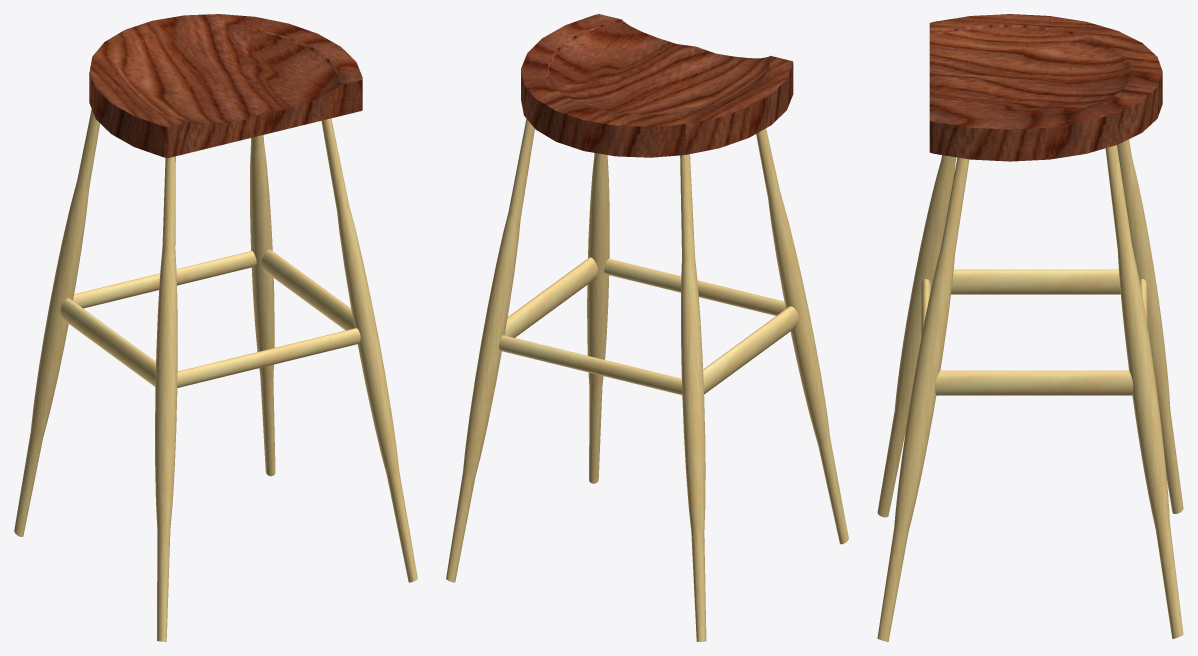
File: LabStoolWooden01.fbx
The picture shows the model from 3 angles, left to right: view 1: azimuth 30°, elevation 25°; view 2: azimuth 150°, elevation 25°; view 3: azimuth 270°, elevation 25°; orthographic projection. The views are drawn at different scales.
Parts seen in each view (by area): view 1: default; view 2: default; view 3: default.
Boxes of the visible parts, x1,y1,x2,y2 form: default: (14, 14, 417, 641); default: (446, 14, 848, 641); default: (877, 14, 1183, 641).
Size of the model in its own units: 22.28 by 40.39 by 22.08.
